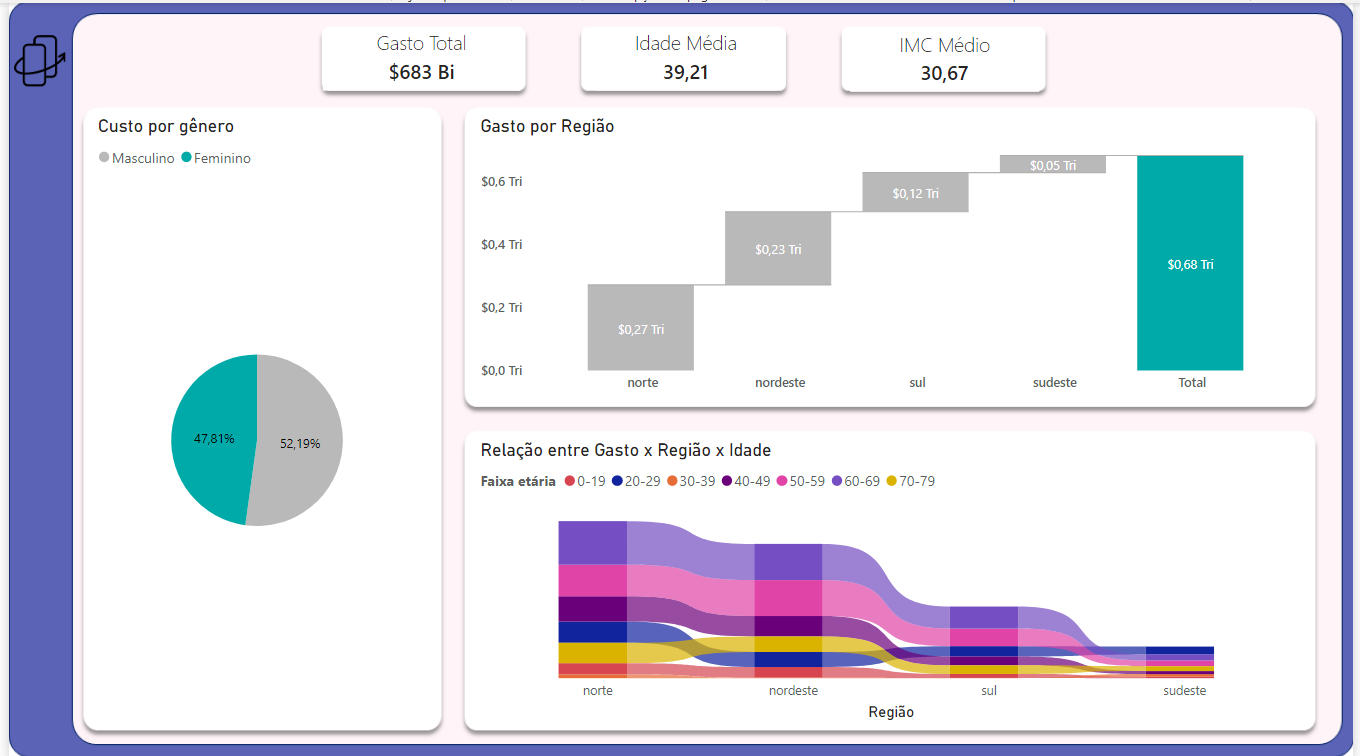

What the dashboard file says about the page in this screenshot:
{"tool":"powerbi","page":{"name":"Gerencial","canvas":[1280,720],"ordinal":0},"visuals":[{"type":"card","title":"Gasto Total","fields":{"Values":["seguro_saude_v2.kpi-gasto-total"]},"box":[298.7,25,188,58.3],"z":0},{"type":"card","title":"Idade Média","fields":{"Values":["Avg(seguro_saude_v2.idade)"]},"box":[558.1,25,172.6,58.3],"z":1000},{"type":"waterfallChart","title":"Gasto por Região","fields":{"Category":["seguro_saude_v2.regiao"],"Y":["seguro_saude_v2.kpi-gasto-total"]},"box":[443.9,107.1,792.6,273.7],"z":2000},{"type":"ribbonChart","title":"Relação entre Gasto x Região x Idade","fields":{"Category":["seguro_saude_v2.regiao"],"Series":["seguro_saude_v2.Aging"],"Y":["seguro_saude_v2.kpi-gasto-total"]},"box":[443.9,415.3,792.6,272.5],"z":3000},{"type":"pieChart","title":"Custo por gênero","fields":{"Category":["seguro_saude_v2.aux_genero"],"Y":["seguro_saude_v2.kpi-gasto-total"]},"box":[79.7,107.1,313,570],"z":4000},{"type":"image","box":[0,25.1,58.5,59.9],"z":6000},{"type":"card","title":"IMC Médio","fields":{"Values":["Avg(seguro_saude_v2.imc)"]},"box":[800.9,26.2,179.7,58.3],"z":7000}]}

Visuals, with their boxes in screenshot pixels (x1, y1, x2, y2), scaled from the page's 1280x720 canvas onto the 1360x756 screenshot:
"Gasto Total" card: 317:26:517:87
"Idade Média" card: 593:26:776:87
"Gasto por Região" waterfallChart: 472:112:1314:400
"Relação entre Gasto x Região x Idade" ribbonChart: 472:436:1314:722
"Custo por gênero" pieChart: 85:112:417:711
image: 0:26:62:89
"IMC Médio" card: 851:28:1042:89
